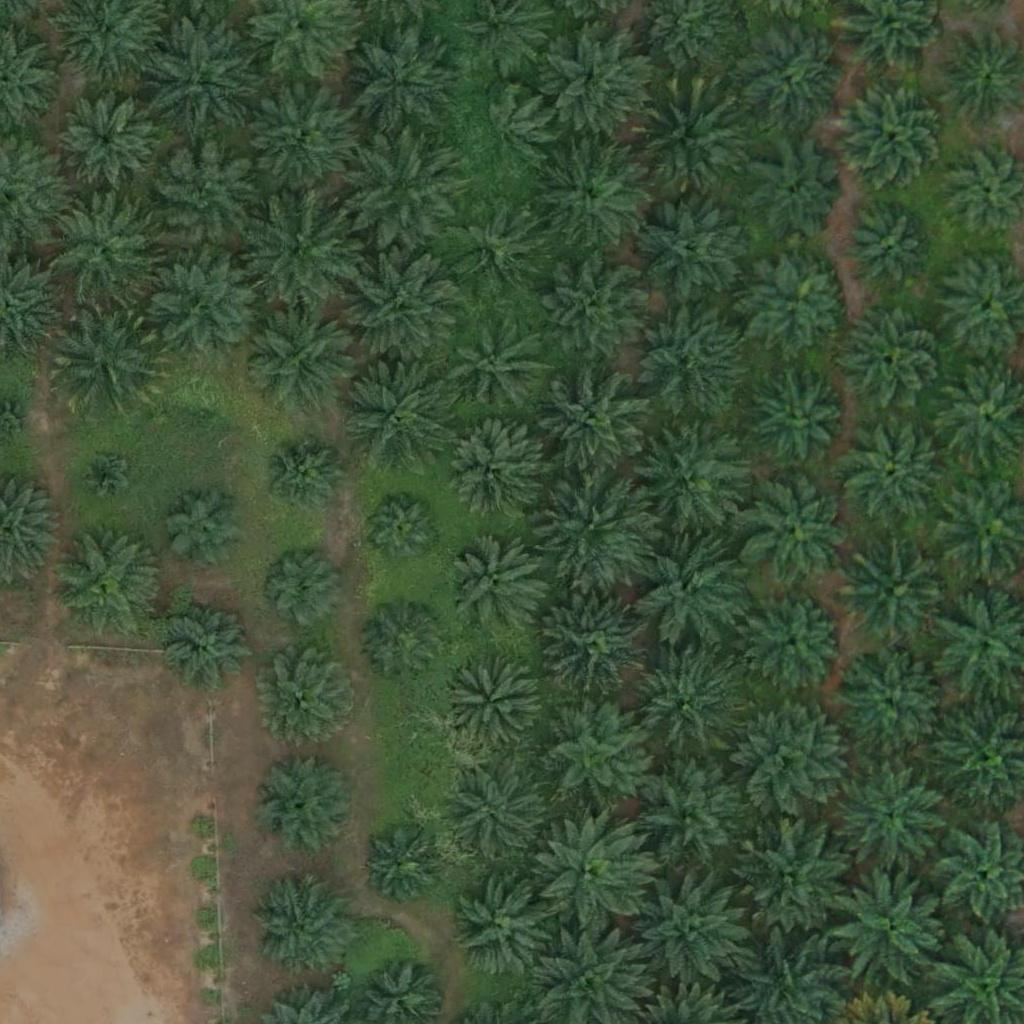Kelapa_Sawit: (341, 351, 454, 465), (244, 82, 357, 196), (241, 192, 354, 306), (144, 21, 257, 135), (837, 78, 950, 191), (636, 191, 749, 304), (632, 301, 745, 414), (541, 25, 654, 138), (532, 138, 645, 251), (538, 255, 651, 368), (246, 302, 359, 415), (148, 142, 261, 255), (540, 473, 653, 586), (541, 590, 654, 703), (637, 421, 750, 534), (634, 535, 747, 648), (628, 646, 741, 759), (636, 761, 749, 874), (736, 701, 849, 814), (739, 815, 852, 928), (538, 366, 650, 480), (345, 132, 457, 246), (347, 249, 459, 363), (51, 527, 163, 641), (50, 303, 162, 416), (633, 86, 745, 199), (343, 26, 455, 139), (153, 249, 265, 362), (48, 193, 160, 306), (536, 699, 648, 812), (535, 820, 647, 933), (638, 872, 750, 985), (741, 475, 853, 588), (836, 414, 948, 527), (843, 541, 955, 654), (836, 647, 948, 760), (836, 766, 948, 879), (833, 872, 945, 985), (842, 309, 942, 410), (738, 26, 838, 127), (747, 142, 847, 243), (748, 252, 848, 353), (745, 366, 845, 467), (57, 90, 157, 191), (249, 874, 349, 975), (441, 423, 541, 524), (447, 535, 547, 636), (442, 653, 542, 754), (747, 592, 847, 693), (445, 199, 545, 299), (449, 318, 549, 418), (259, 648, 359, 748), (254, 755, 354, 855), (452, 767, 552, 867), (454, 880, 554, 980), (846, 204, 934, 292), (462, 89, 550, 177), (168, 600, 256, 688), (162, 485, 249, 573), (261, 435, 348, 523), (258, 544, 345, 632), (360, 599, 447, 687), (365, 827, 440, 903), (363, 491, 438, 566), (80, 449, 130, 500), (177, 386, 227, 436)
